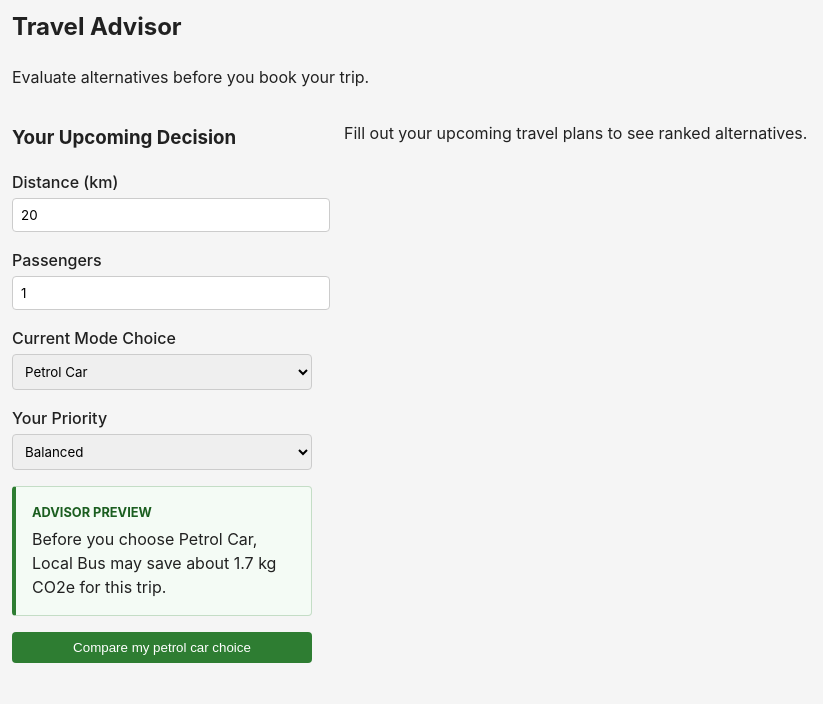
Test: TravelDecisionUI › shows supportive ghost preview copy for an already lower-carbon choice
Select "Train" in the dropdown labelled "Current Mode Choice" at {"x": 162, "y": 372}, box [12, 354, 312, 390]
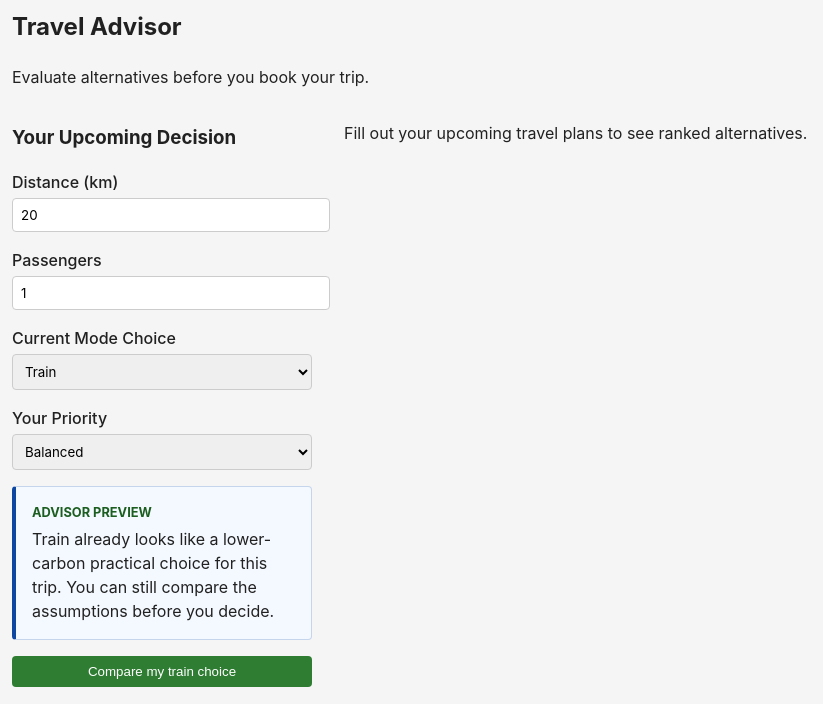
Expected: the message shows "Train already looks like a lower-carbon practical choice", [32, 528, 274, 620]
